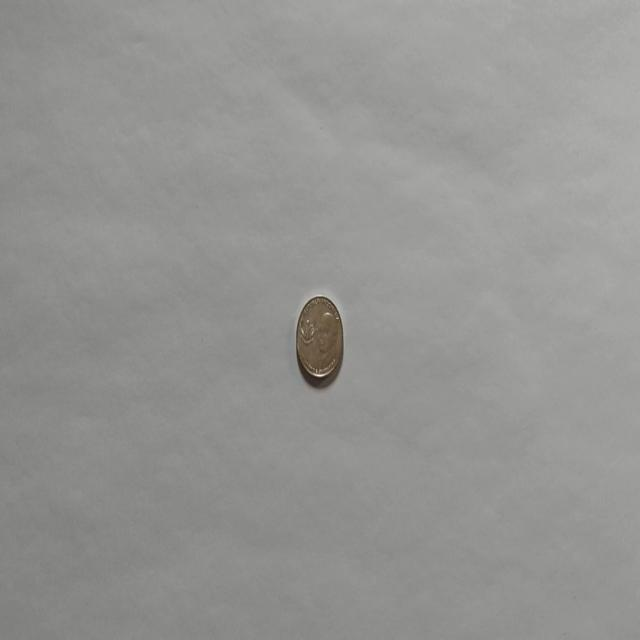lima ratus rupiah: (294, 293, 344, 383)
